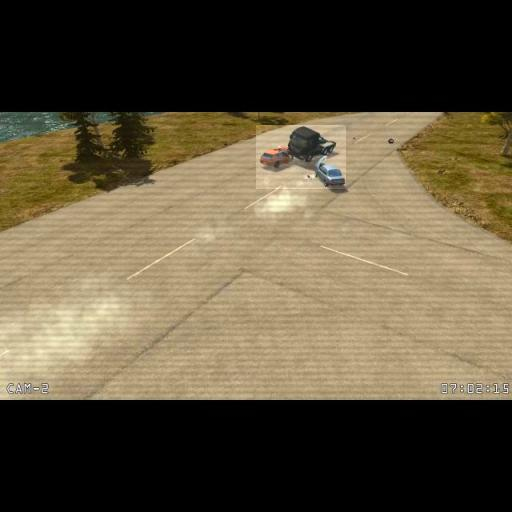小汽车撞小汽车: (256, 126, 346, 190)
